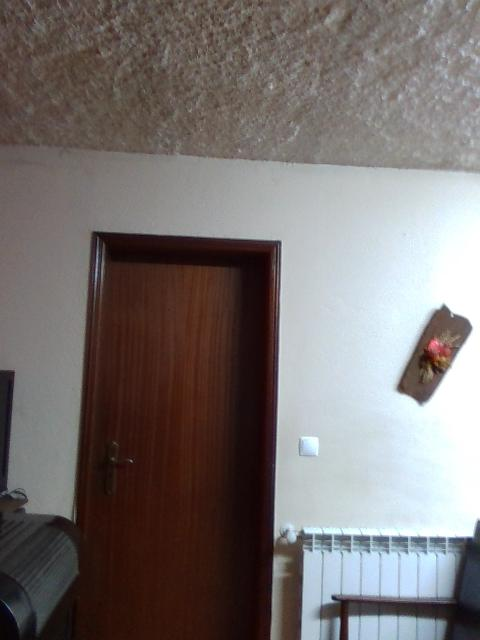door: (92, 255, 265, 640)
